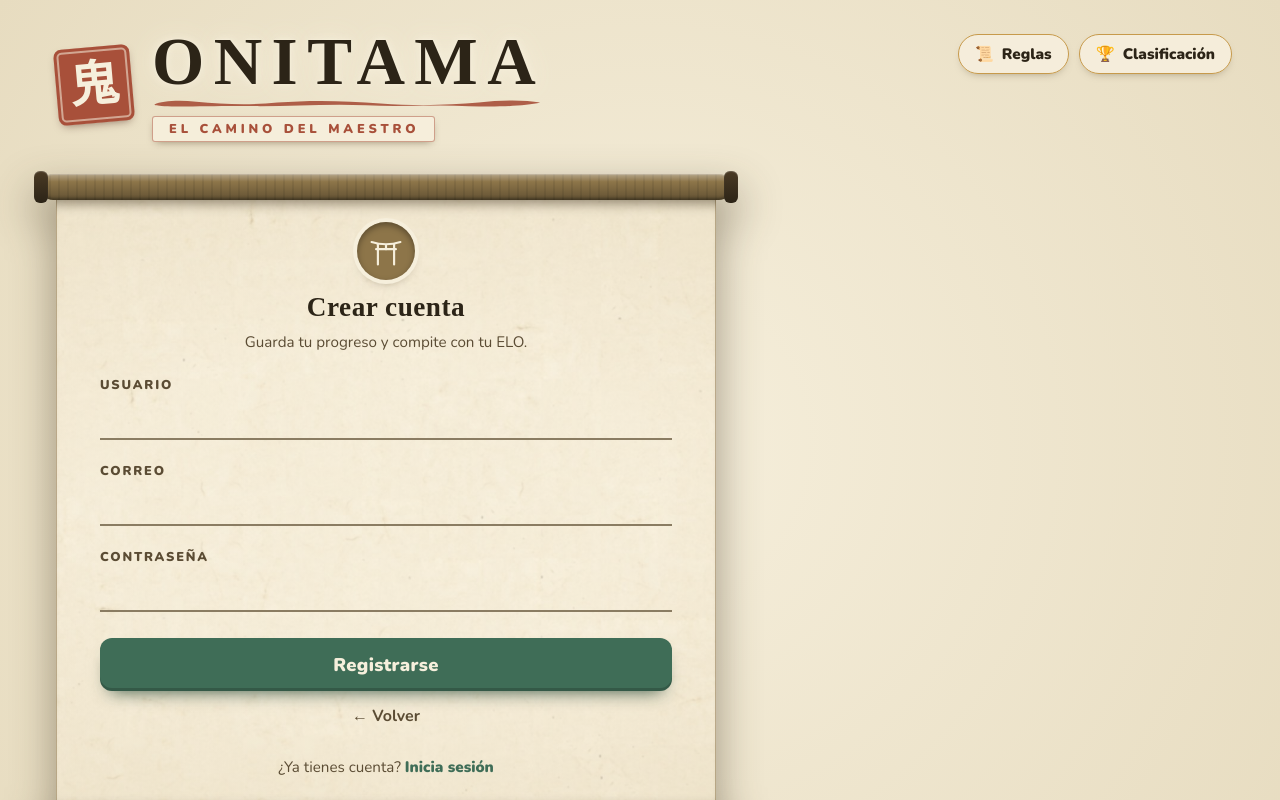
Test: RegisterPage › muestra la confirmación con el correo de destino tras un registro exitoso
In the field labelled "Usuario": (386, 418) left=100, top=396, right=672, bottom=440, type "testuser"
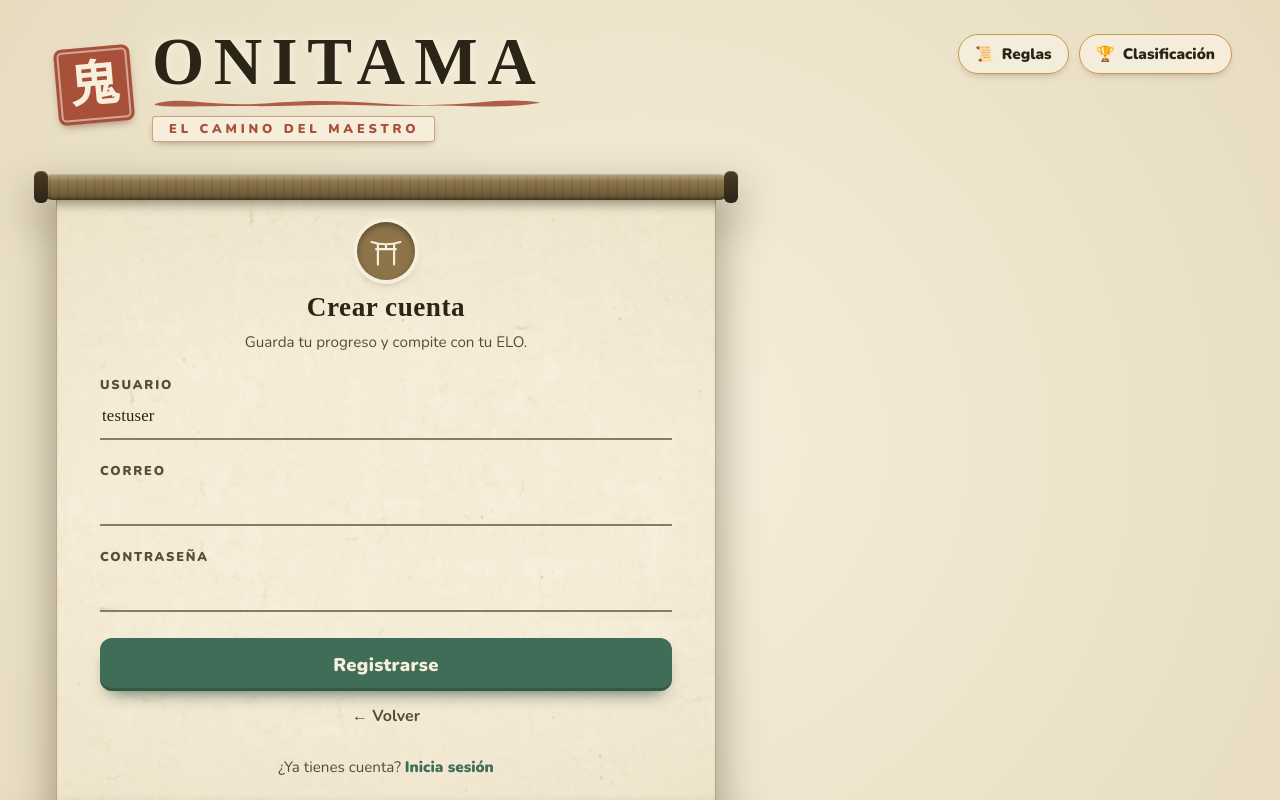
In the field labelled "Correo": (386, 504) left=100, top=482, right=672, bottom=526, type "testuser@example.com"
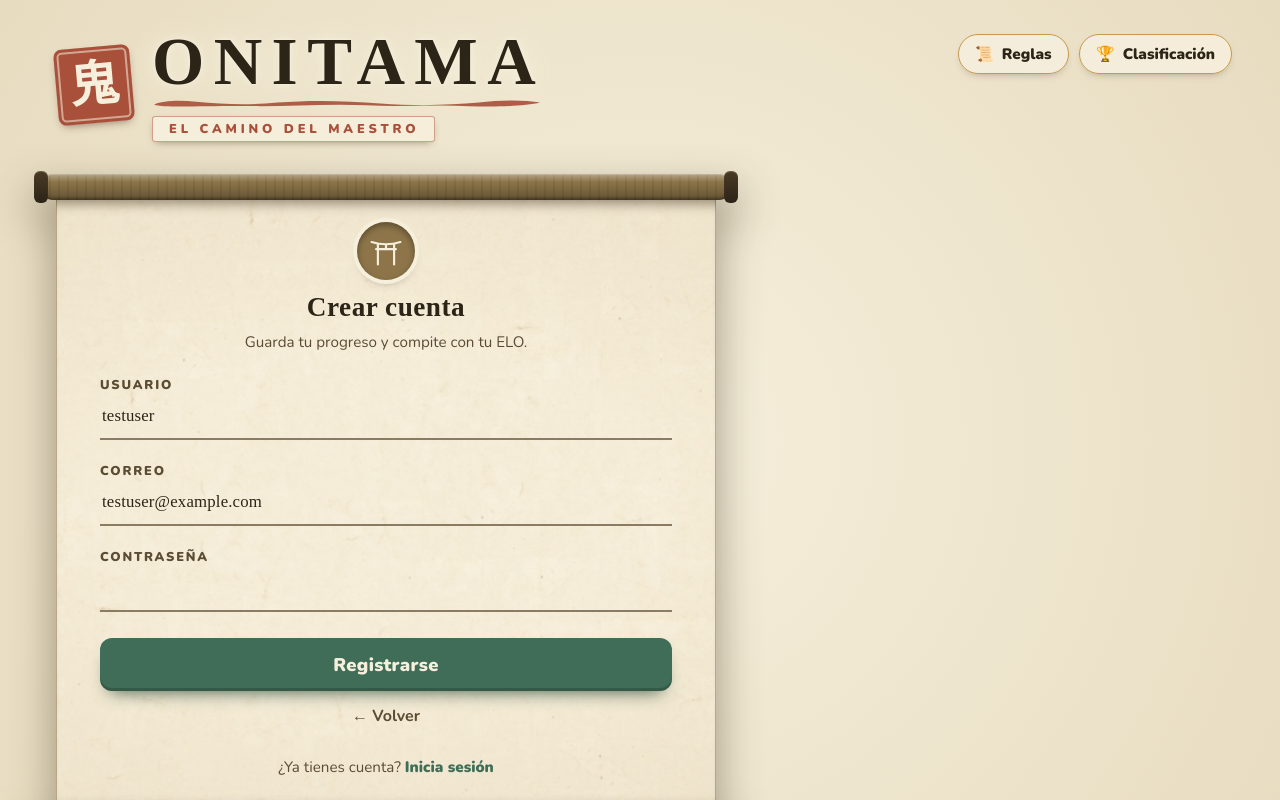
In the password field labelled "Contraseña": (386, 590) left=100, top=568, right=672, bottom=612, type "password"
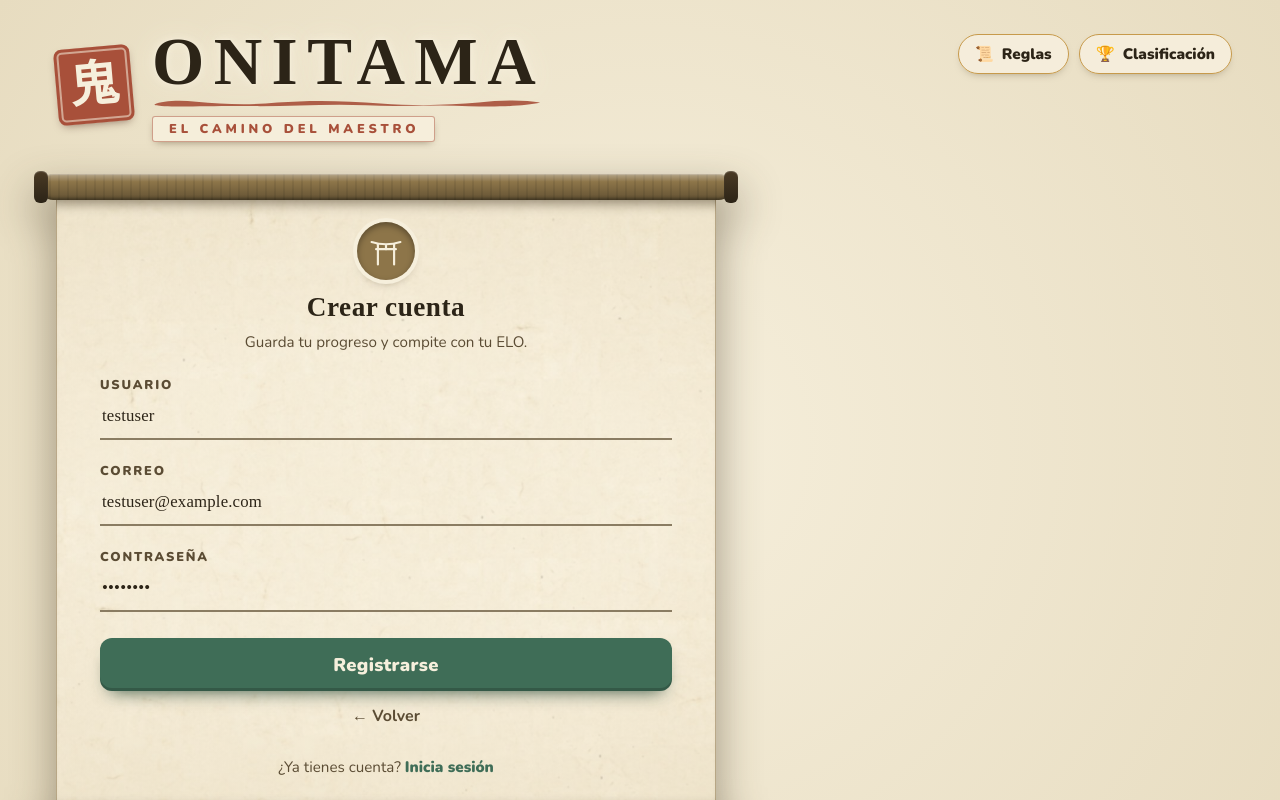
Click the button "Registrarse": (386, 664) left=100, top=638, right=672, bottom=691
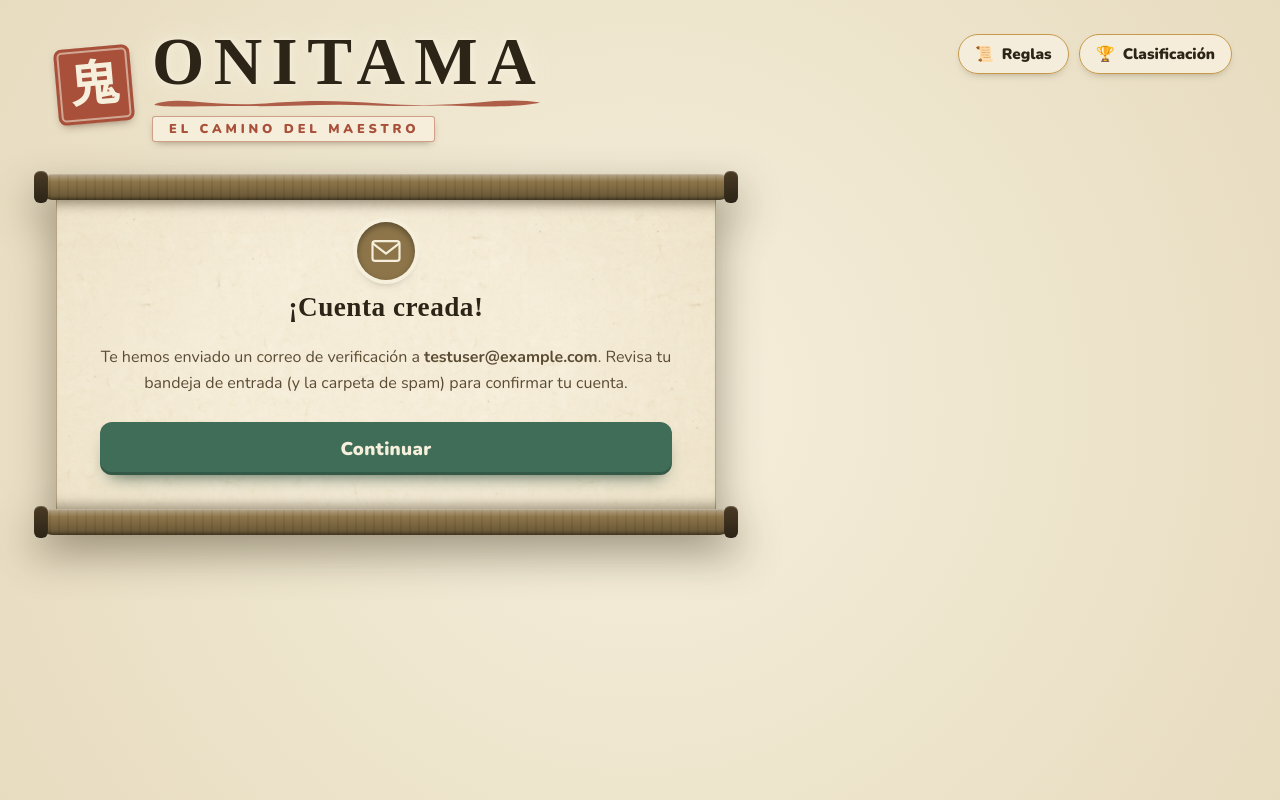
expect the text "testuser@example.com" is shown: met, box left=424, top=346, right=598, bottom=368
